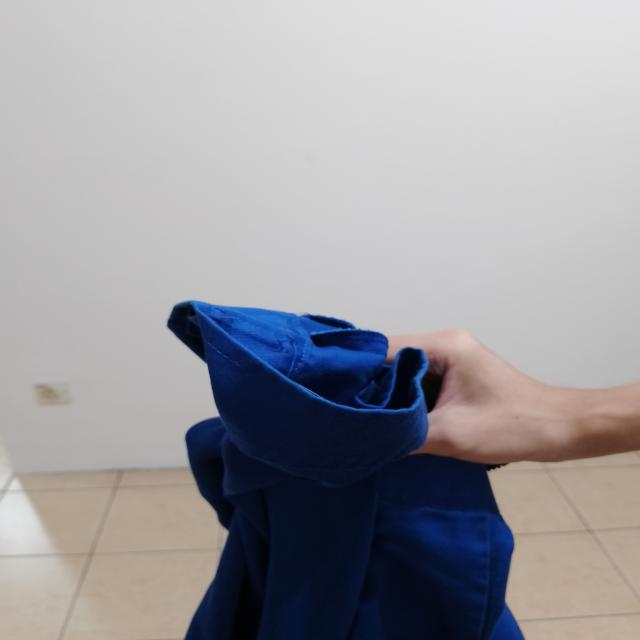person_without_labcoat: (168, 301, 640, 640)
